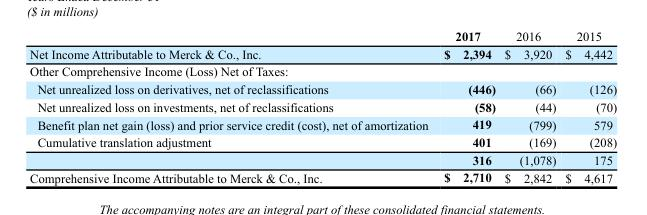table: (29, 28, 616, 184)
table column: (29, 28, 435, 184), (435, 28, 499, 184), (499, 28, 559, 184), (559, 28, 616, 184)
table column header: (29, 28, 616, 44)
table projected row header: (29, 62, 616, 80)
table row: (29, 44, 616, 62), (29, 62, 616, 80), (29, 97, 616, 115), (29, 115, 616, 133), (29, 150, 616, 168), (29, 80, 616, 97), (29, 133, 616, 150), (29, 28, 616, 44), (29, 168, 616, 184)
